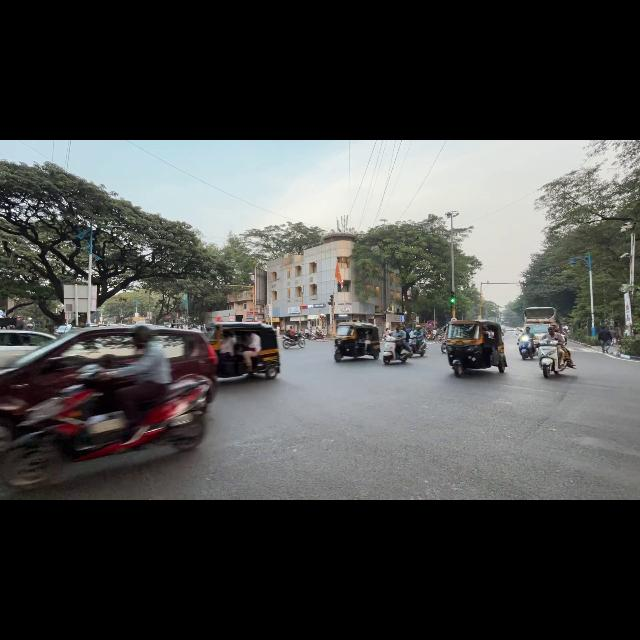bus: (522, 306, 564, 330)
car: (0, 327, 140, 451), (0, 330, 56, 365), (54, 324, 72, 336)
motorcycle: (3, 373, 209, 487), (538, 339, 566, 377), (383, 337, 409, 364), (518, 336, 537, 359), (409, 334, 427, 357), (283, 335, 305, 348), (314, 332, 326, 340), (303, 333, 314, 339), (441, 342, 446, 353)
